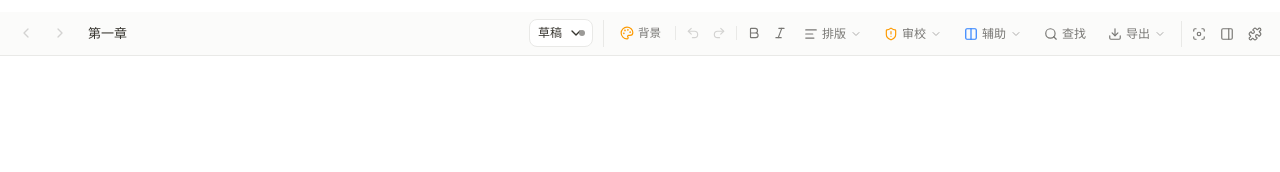
Test: EditorToolbar 插件抽屉选择器（P2.8） › 条目会说明这个抽屉是什么，选择由作者做出
What coordinates should you click on to do the following:
click the button with test id "editor-toolbar-drawer-trigger"
I would click on:
 (1255, 34)
Its box is [1242,20,1268,46].
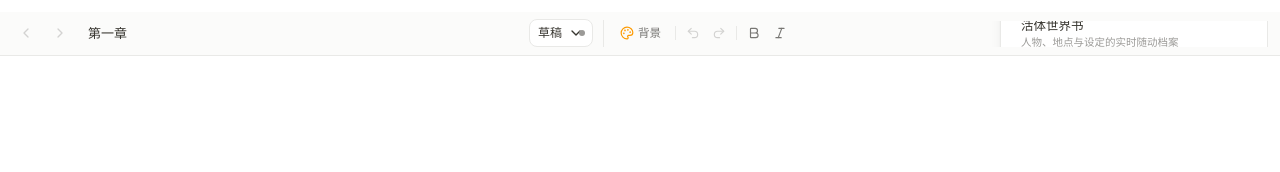
Expected: the text "人物、地点与设定的实时随动档案" is shown, [1021,36,1178,46]
